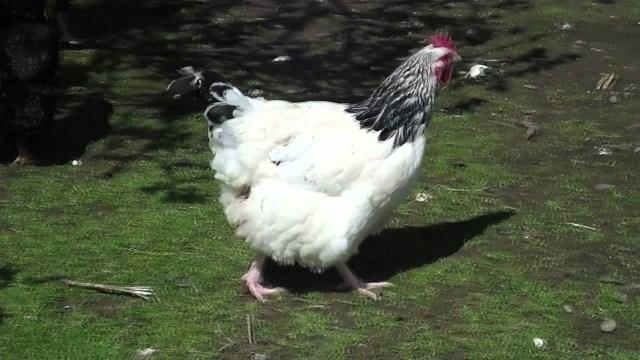Chicken: (171, 32, 462, 302)
